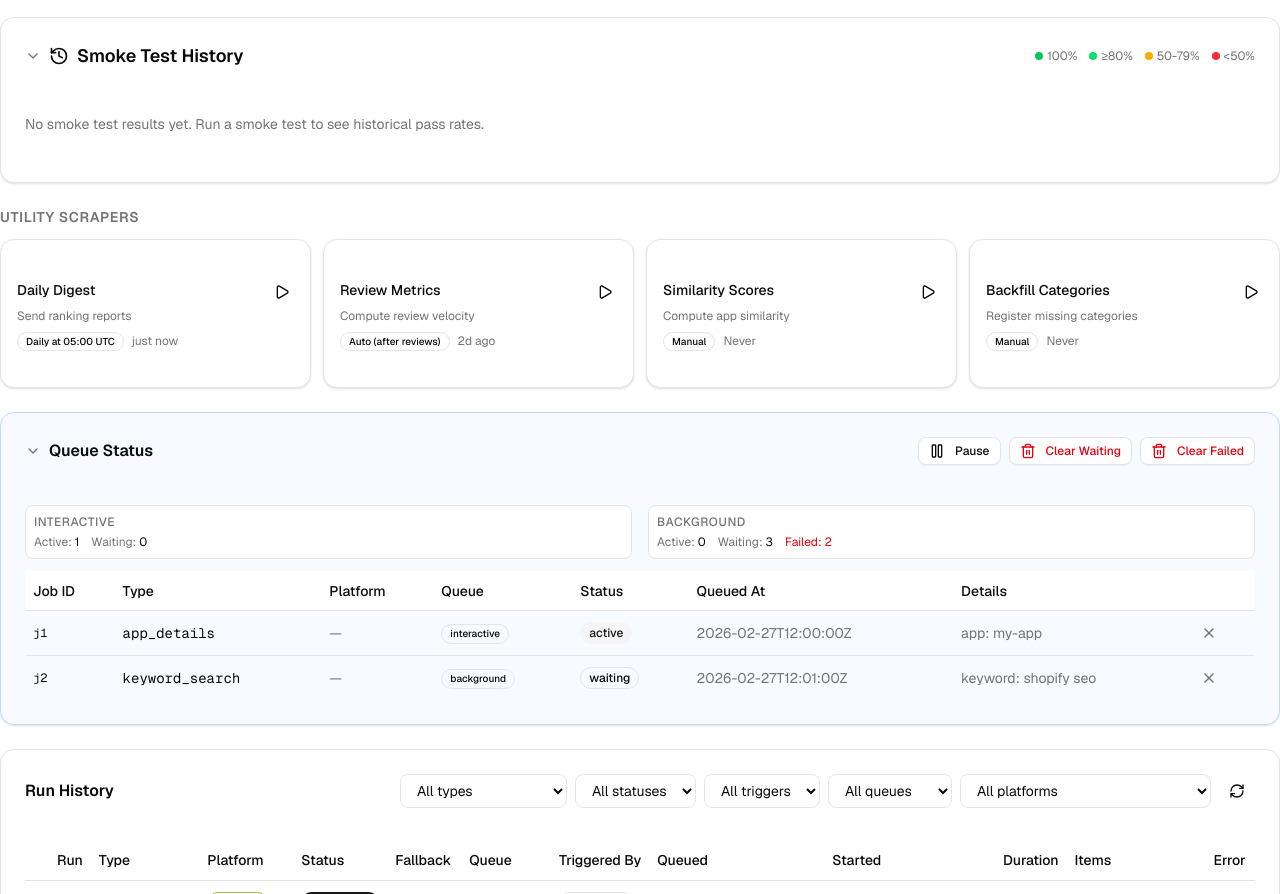
Scenario: ScraperPage › opens clear failed confirmation modal
The width and height of the screenshot is (1280, 894).
(page scrolled)
Click the button "Clear Failed" at (1198, 451), box x1=1140 y1=437 x2=1255 y2=465
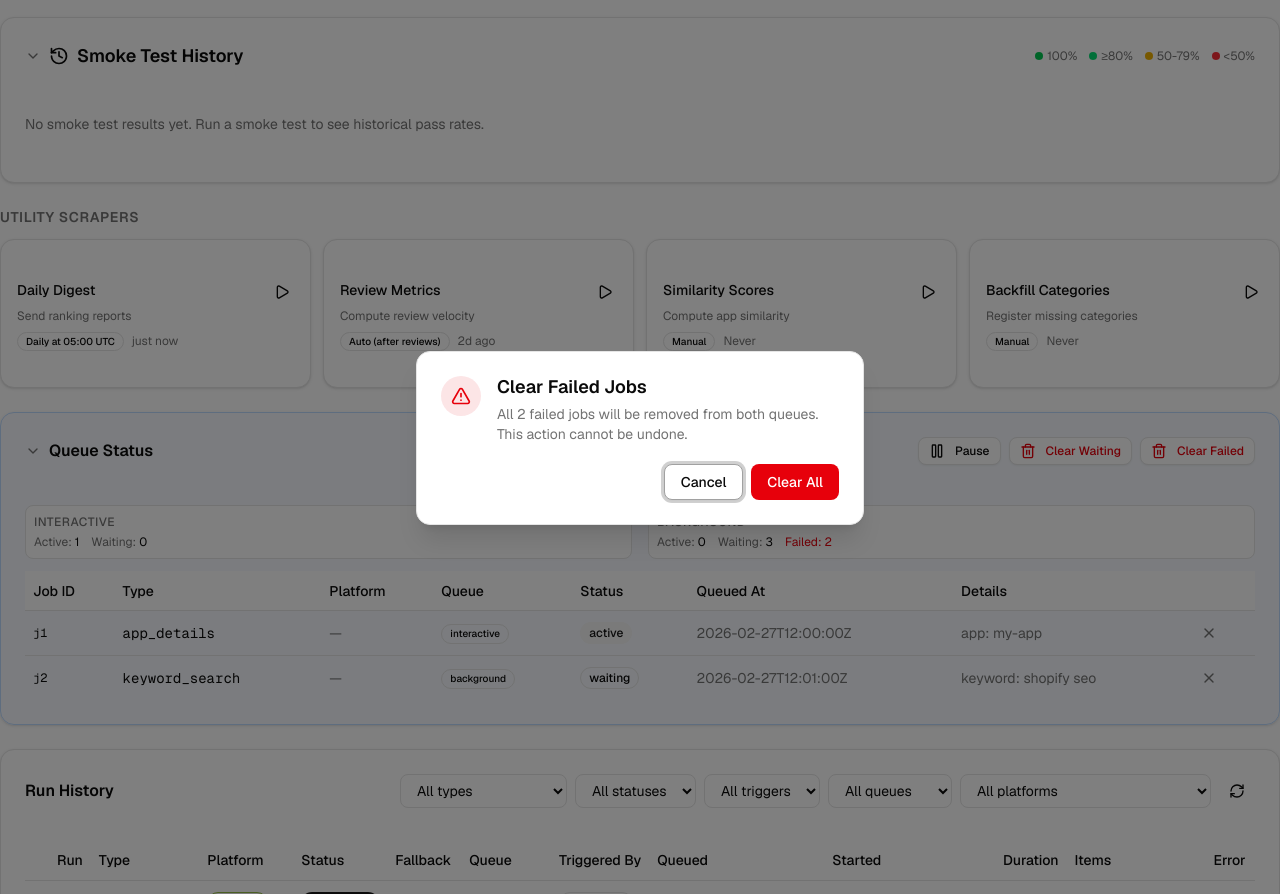
Now the heading "Clear Failed Jobs" is shown, box x1=497 y1=375 x2=647 y2=398
